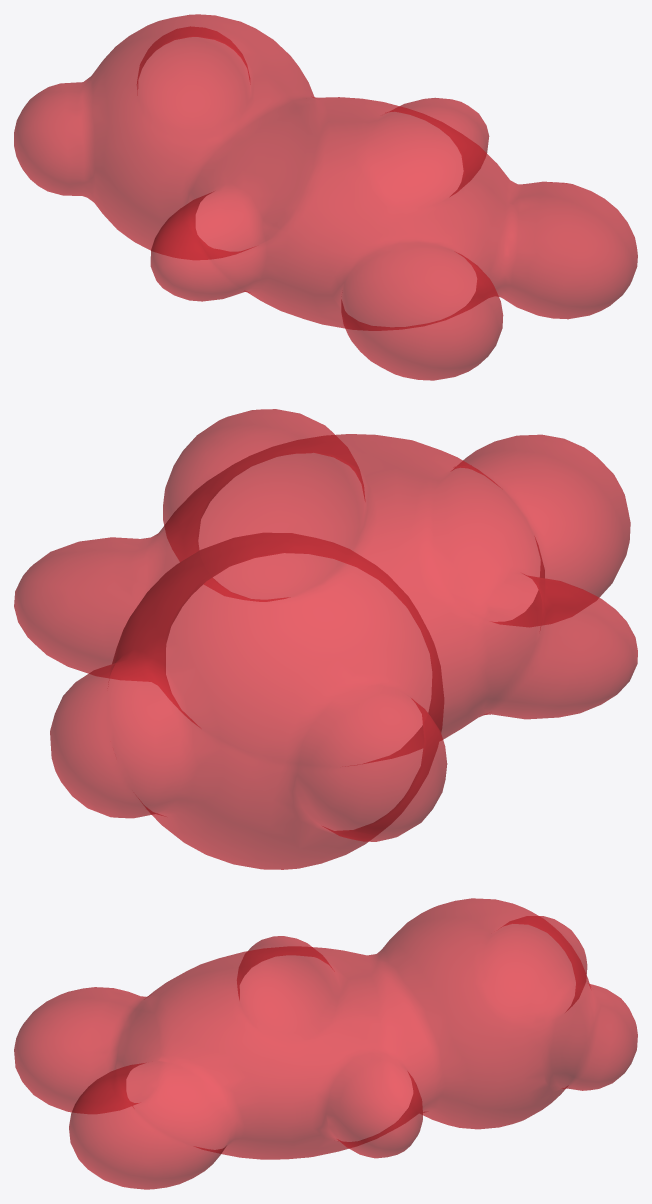
File: gummibaer.glb
3 views of the same model, one above another, from view 1: azimuth 30°, elevation 25°; view 2: azimuth 150°, elevation 25°; view 3: azimuth 270°, elevation 25° (orthographic). The views are drawn at different scales.
Parts seen in each view (by area): view 1: p0; view 2: p0; view 3: p0.
Part boxes in pixels (<box>): p0: <box>14,14,637,380</box>; p0: <box>14,409,637,869</box>; p0: <box>14,898,637,1189</box>.
Bounding box in the file's own units: 0.0279 × 0.0149 × 0.0402.
